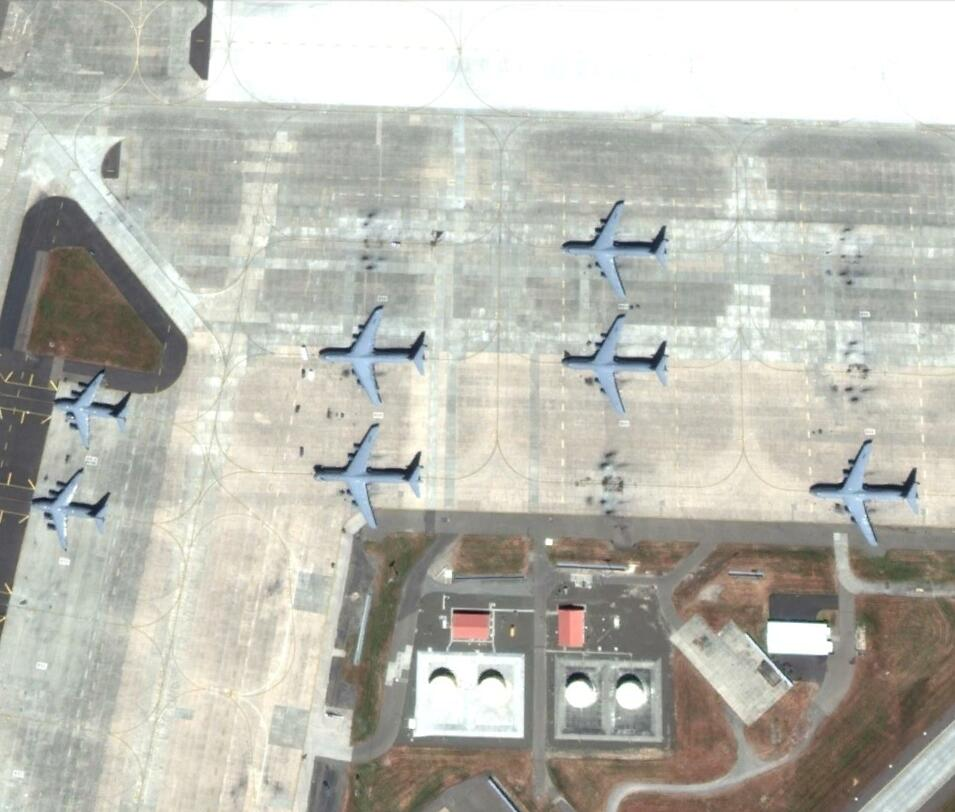A3: (31, 470, 111, 551), (53, 371, 133, 447)
A4: (808, 439, 923, 551), (313, 423, 426, 531), (561, 201, 674, 300), (319, 304, 428, 406), (561, 317, 672, 415)
